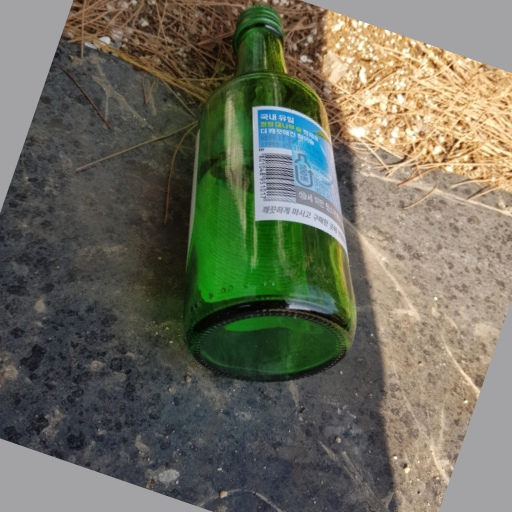Glass_0: (177, 4, 361, 384)
